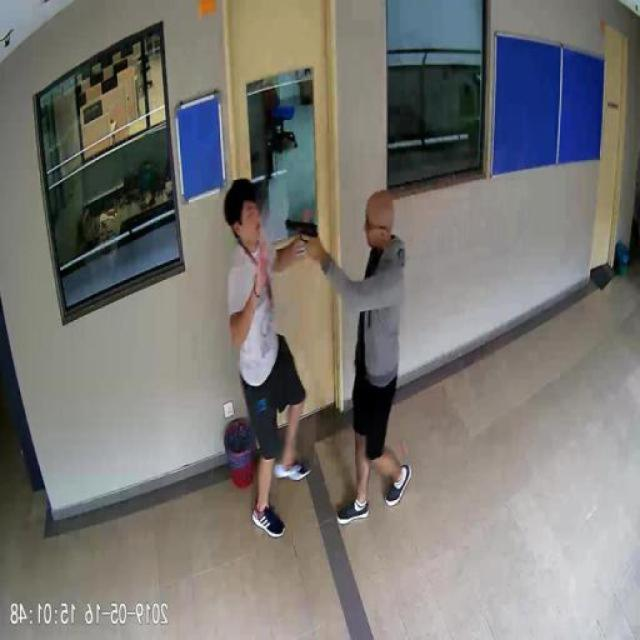pistol: (288, 218, 318, 256)
